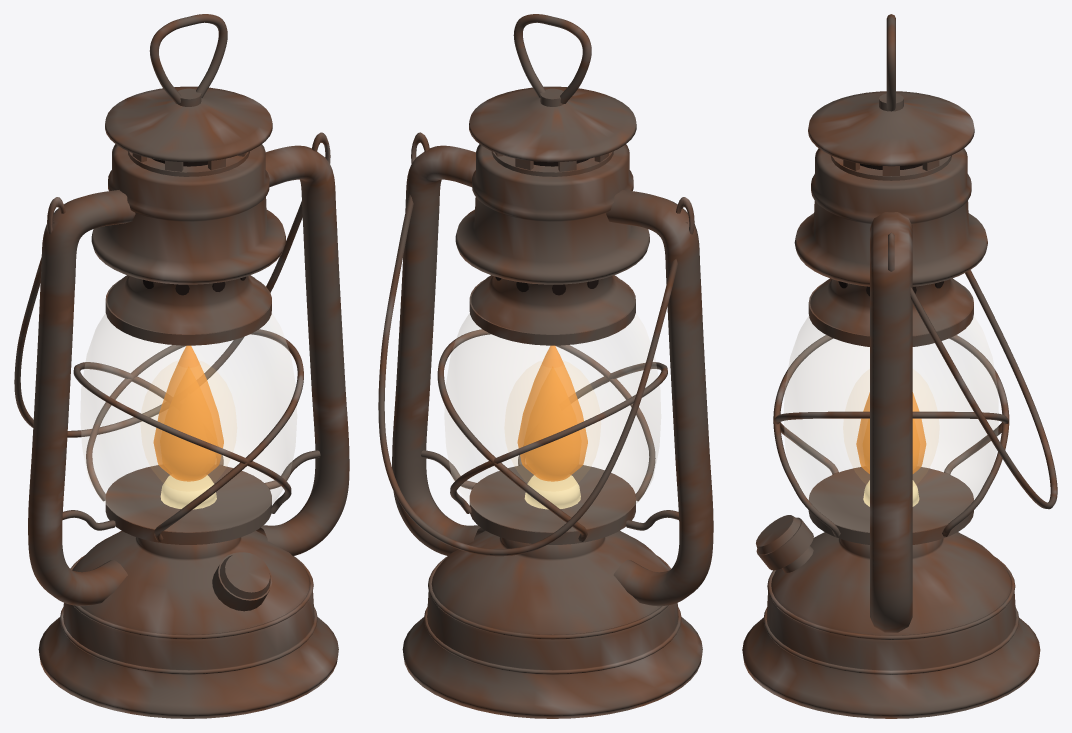
File: 02-lantern.glb
3 renders of one model, left to right at view 1: azimuth 30°, elevation 25°; view 2: azimuth 150°, elevation 25°; view 3: azimuth 270°, elevation 25°, orthographic.
Parts seen in each view (by area): view 1: Tank, Globe, Hood, FrameLeft, FrameRight, TopCap, Lantern, GalleryPlate, GuardWire (×2), Flame, Bail, Collar (+2 smaller); view 2: Tank, Globe, Hood, FrameLeft, FrameRight, TopCap, GalleryPlate, Lantern, Flame, GuardWire (×2), Bail, Collar (+2 smaller); view 3: Tank, Globe, Hood, FrameRight, TopCap, Lantern, GalleryPlate, GuardWire (×2), Bail, Collar, Flame, TopRing.
Part boxes in pixels (x1,y1,x2,y2): Tank: (38, 530, 338, 718); Globe: (80, 313, 296, 531); Hood: (91, 144, 285, 334); FrameLeft: (28, 190, 135, 606); FrameRight: (256, 145, 349, 556); TopCap: (105, 86, 272, 162); Lantern: (47, 132, 330, 674); GalleryPlate: (105, 465, 271, 544); GuardWire (×2): (73, 329, 303, 541); Flame: (153, 345, 223, 481); Bail: (14, 201, 302, 437); Collar: (105, 280, 271, 345); Tank: (402, 530, 702, 718); Globe: (444, 313, 660, 531); Hood: (455, 144, 649, 334); FrameLeft: (606, 190, 713, 606); FrameRight: (392, 145, 485, 555); TopCap: (469, 86, 636, 162); GalleryPlate: (469, 465, 635, 544); Lantern: (411, 132, 694, 674); Flame: (517, 345, 587, 481); GuardWire (×2): (437, 329, 667, 541); Bail: (378, 194, 687, 556); Collar: (469, 280, 635, 345); Tank: (742, 532, 1040, 718); Globe: (784, 316, 998, 531); Hood: (794, 148, 987, 335); FrameRight: (870, 212, 912, 632); TopCap: (808, 91, 974, 166); Lantern: (756, 155, 1019, 674); GalleryPlate: (808, 467, 973, 544); GuardWire (×2): (773, 335, 1009, 536); Bail: (910, 270, 1057, 509); Collar: (808, 283, 973, 346); Flame: (856, 392, 926, 473); TopRing: (886, 14, 895, 111).
Size of the model in its own units: 0.154 by 0.299 by 0.1347.
